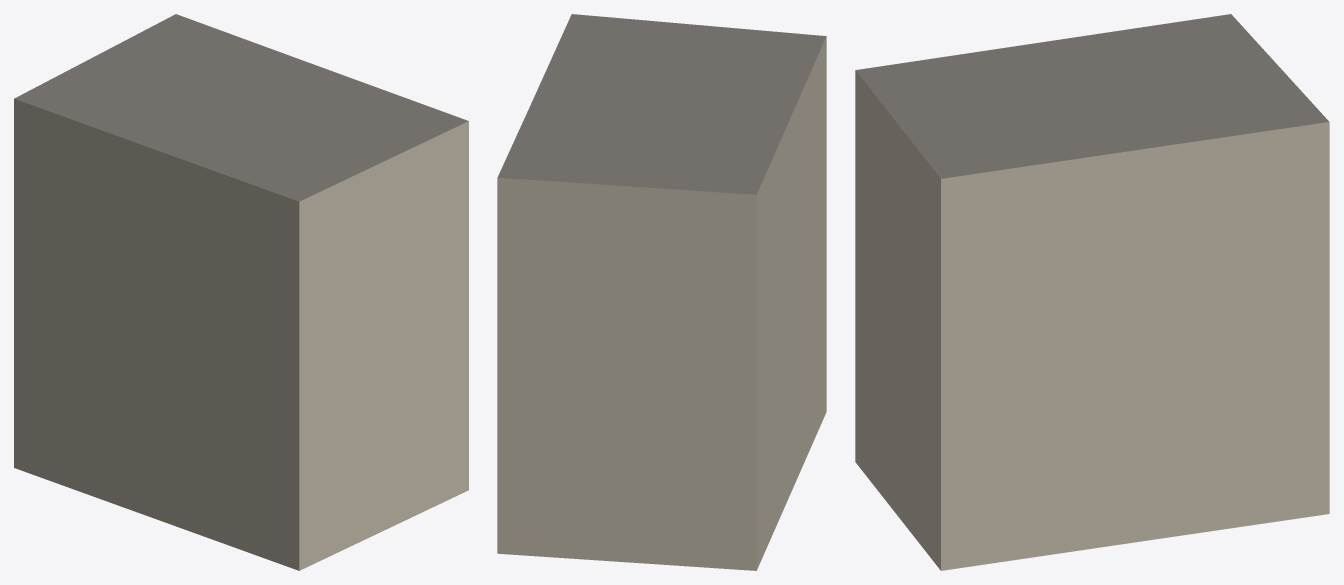
3 views of the same model, side by side, from view 1: azimuth 30°, elevation 25°; view 2: azimuth 150°, elevation 25°; view 3: azimuth 270°, elevation 25° (orthographic). The views are drawn at different scales.
Visible parts, largest first — view 1: HP-w378107179; view 2: HP-w378107179; view 3: HP-w378107179.
Boxes of the visible parts, x1,y1,x2,y2 form: HP-w378107179: (14, 14, 468, 570); HP-w378107179: (497, 14, 826, 570); HP-w378107179: (855, 14, 1329, 570).
Size of the model in its own units: 16.24 by 18 by 19.72.
